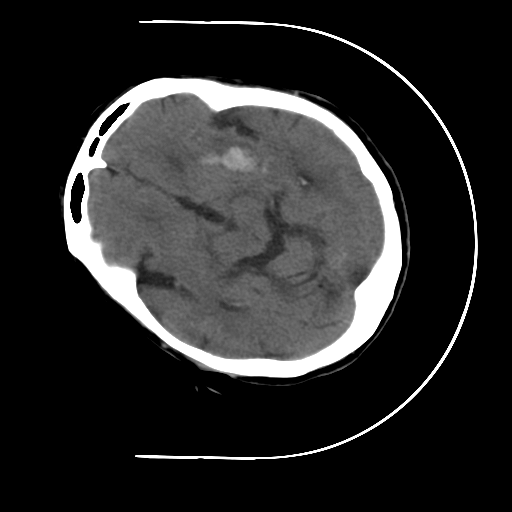a: (190, 134, 268, 180)
